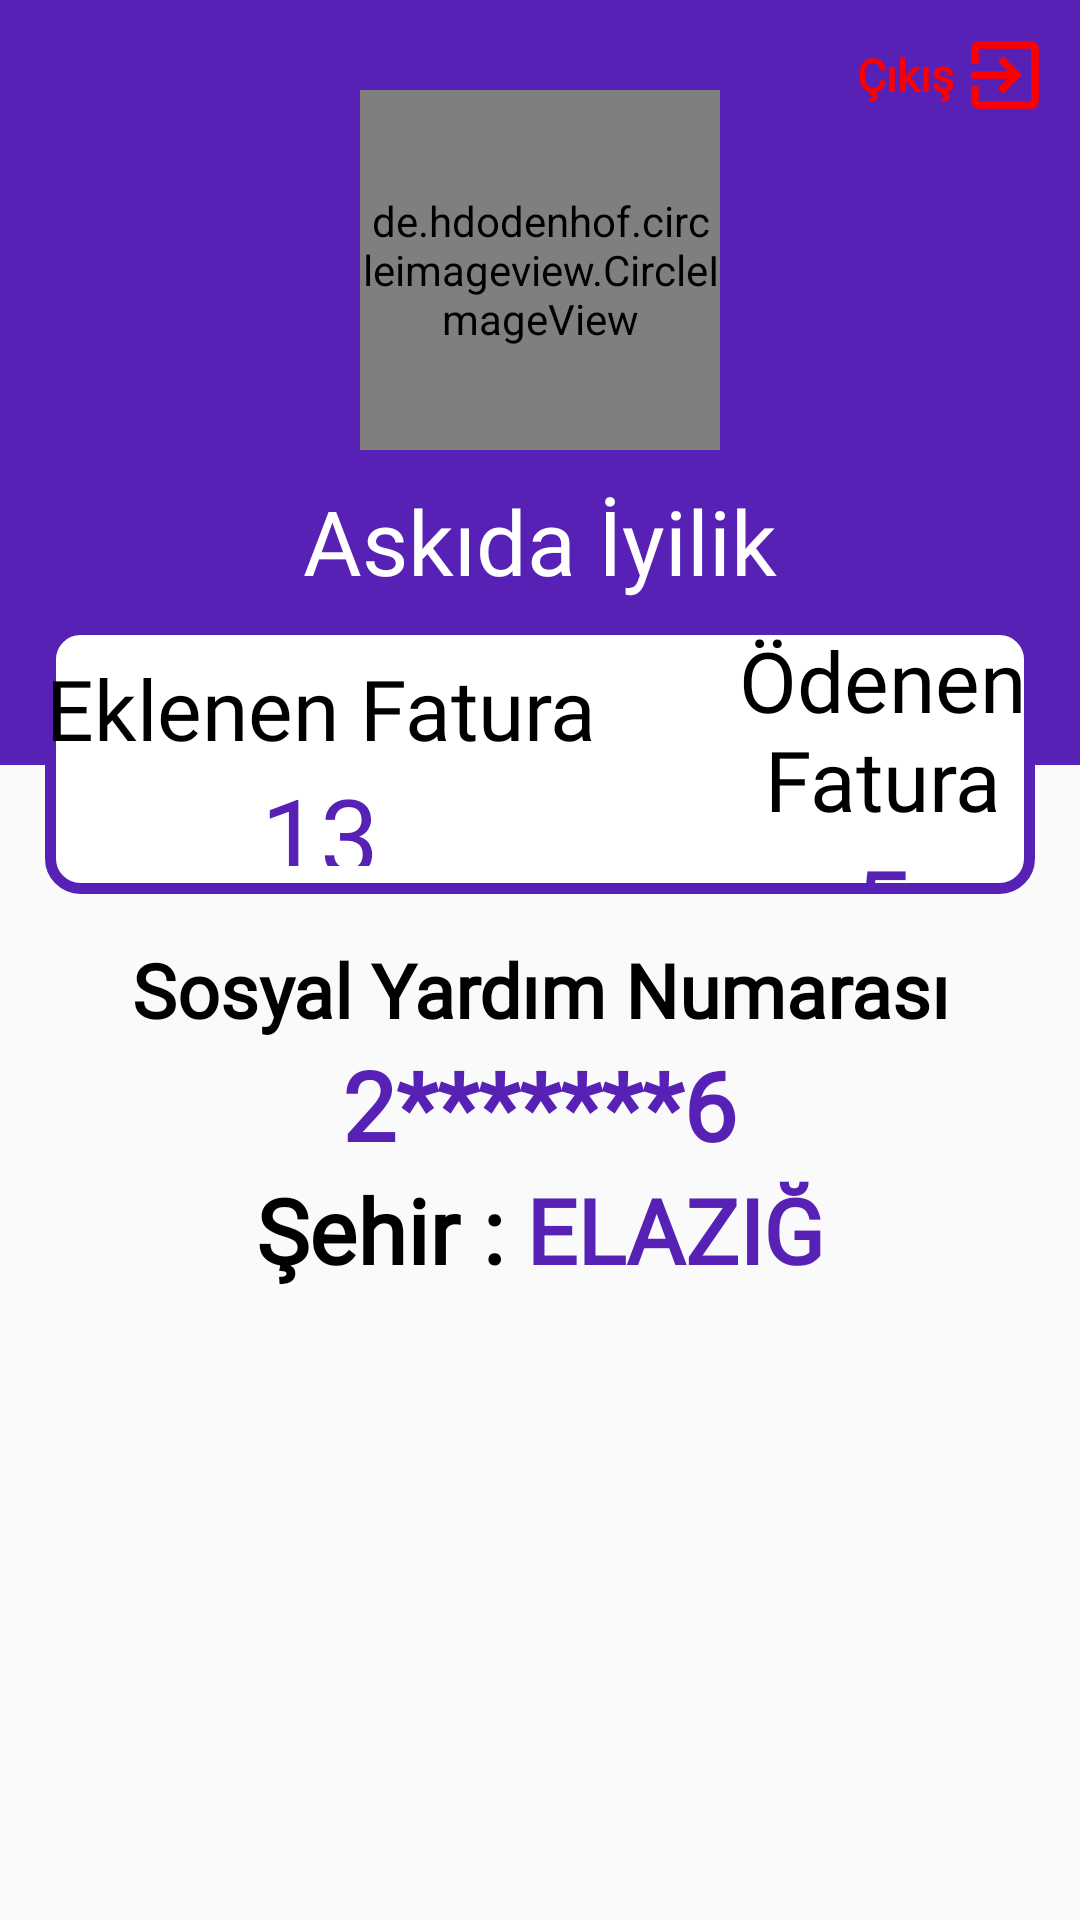

Icons on this 1080px×1920px Android screen, each with the point to tap as (x=x, y=y):
exit to app: (x=1005, y=75)
